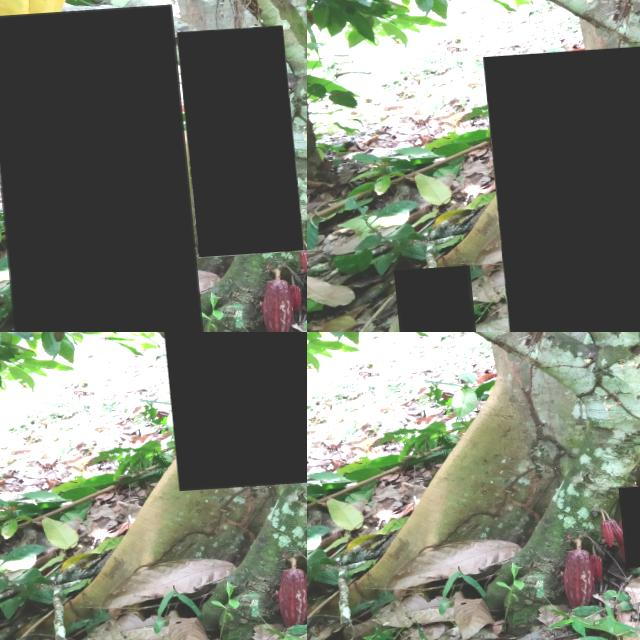Monilia: (0, 8, 198, 332), (477, 50, 640, 332), (383, 267, 465, 332)
Sana: (173, 31, 296, 263), (148, 332, 307, 495), (610, 491, 640, 574), (551, 555, 582, 616), (580, 559, 594, 589), (601, 529, 622, 548), (592, 527, 608, 550)
